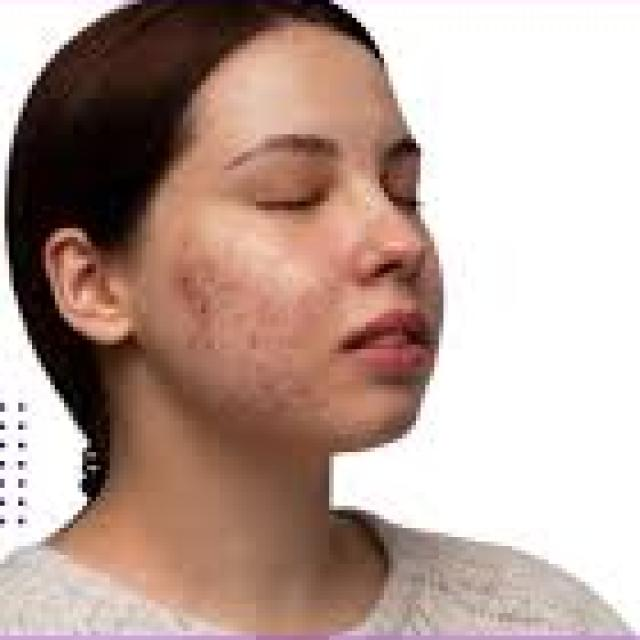pigmentation: (183, 268, 231, 322)
